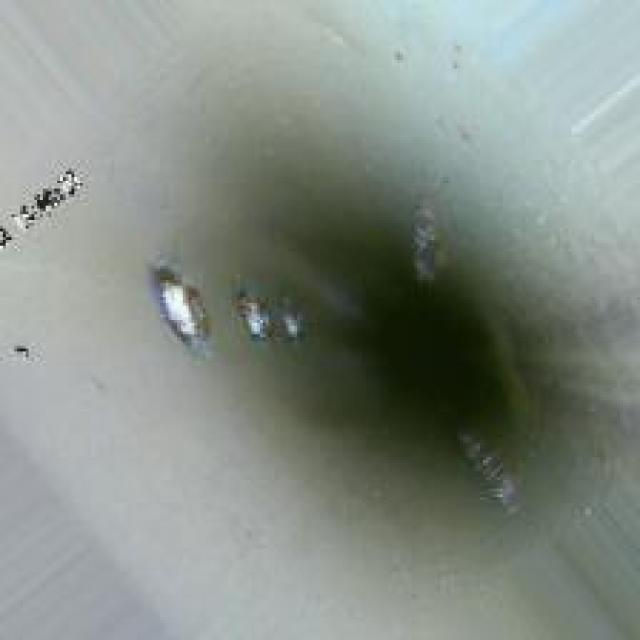ferrule: (151, 268, 206, 343), (234, 292, 269, 337), (283, 306, 300, 334)
